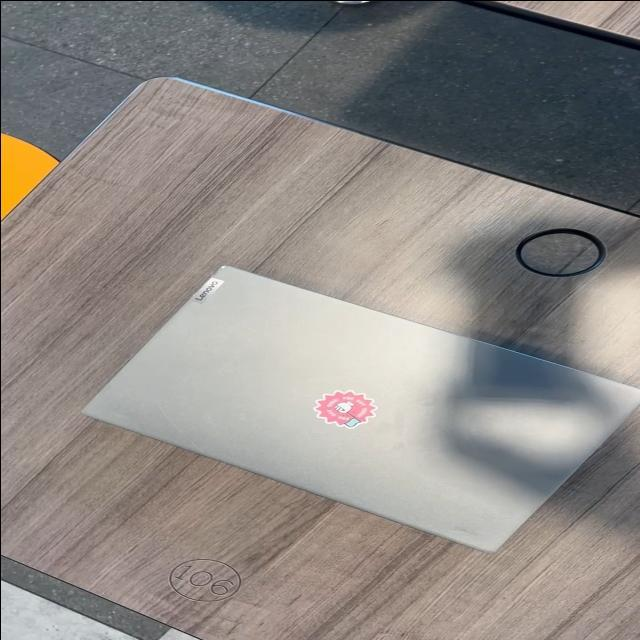laptop: (80, 263, 639, 553)
